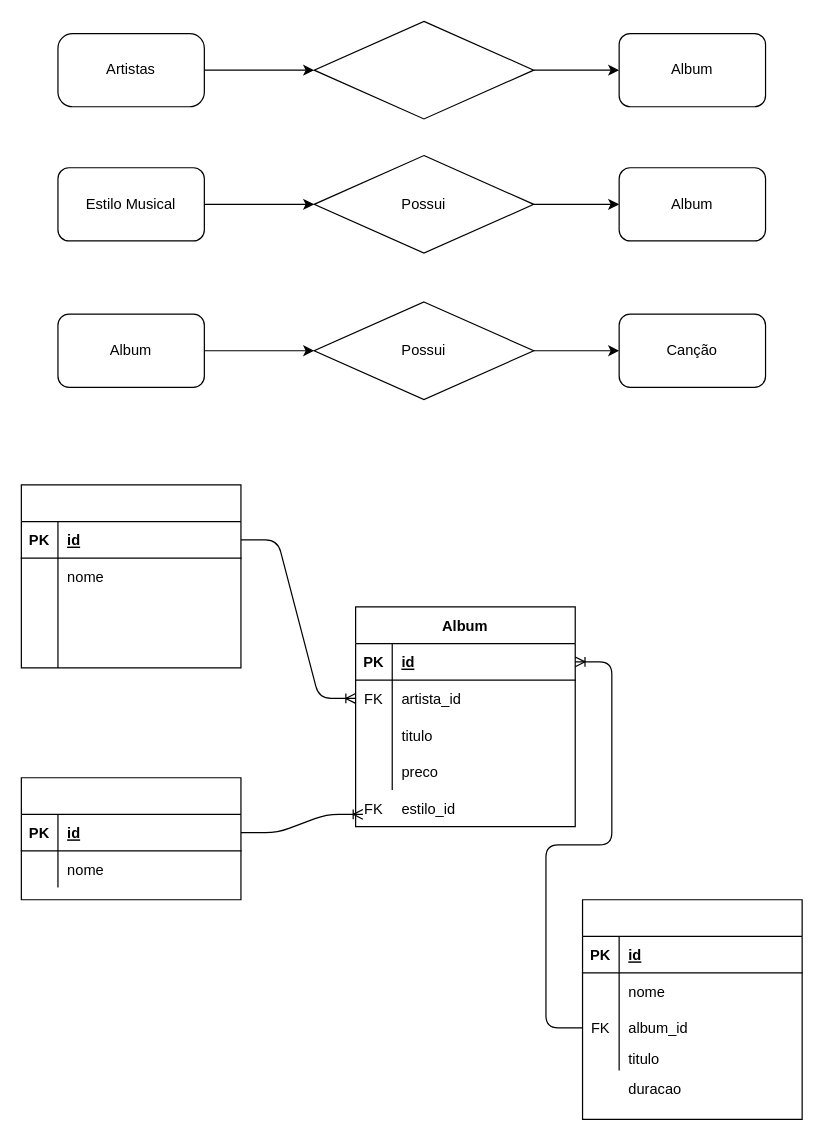
Image size: 824x1141. Some labels were removed from this diagram. Each missing label, with the box of its shape:
Artista: (20, 484, 241, 668)
Cancao: (581, 899, 802, 1119)
EstiloMusical: (20, 777, 241, 900)
Reproduz: (313, 20, 534, 119)
